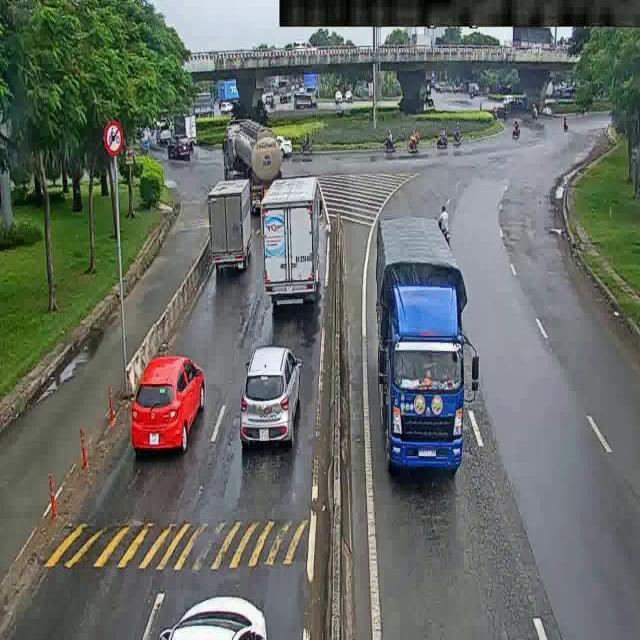car: (119, 342, 211, 466), (230, 332, 309, 453), (138, 582, 277, 640), (168, 134, 196, 165)
motorbike: (426, 200, 454, 239), (405, 132, 437, 165), (297, 131, 325, 168), (382, 122, 405, 161), (432, 120, 453, 157), (507, 113, 528, 148), (451, 119, 467, 146)
truck: (357, 216, 497, 469), (258, 177, 327, 309), (213, 115, 287, 192), (208, 176, 248, 277), (174, 112, 199, 147)
